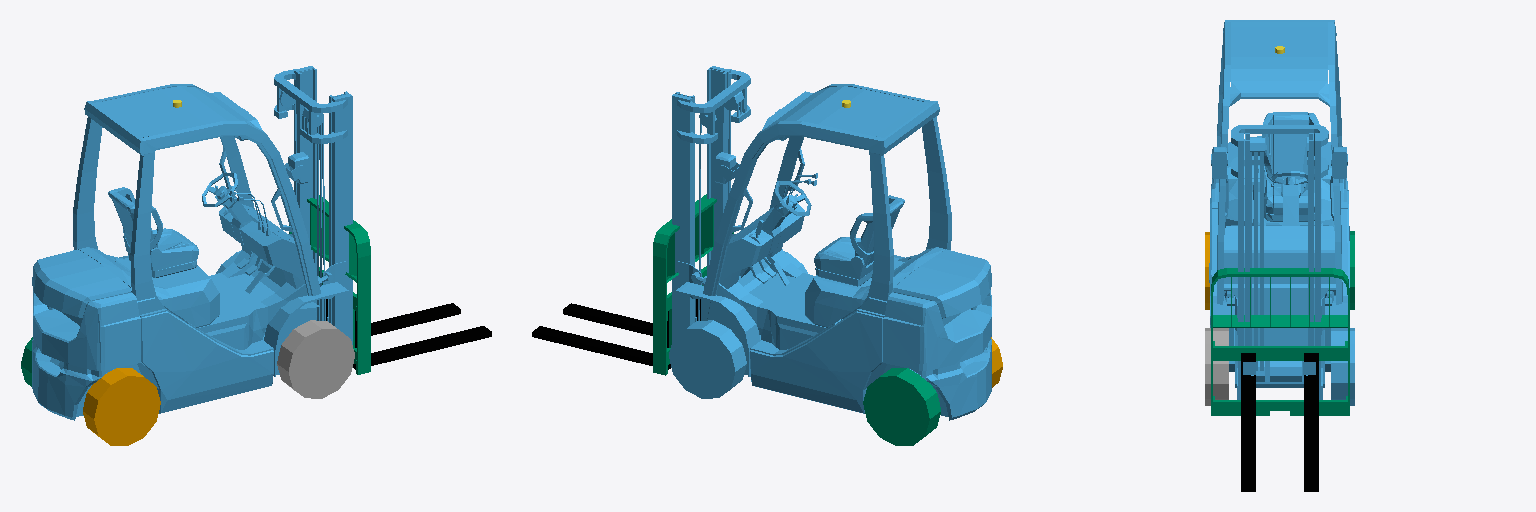
URDF robot description (forklift):
<?xml version="1.0" ?>
<!-- =================================================================================== -->
<!-- |    This document was autogenerated by xacro from forklift.urdf.xacro            | -->
<!-- |    EDITING THIS FILE BY HAND IS NOT RECOMMENDED                                 | -->
<!-- =================================================================================== -->
<robot name="forklift">
  <!-- Specify some standard inertial calculations
    https://en.wikipedia.org/wiki/List_of_moments_of_inertia -->
  <!-- These make use of xacro's mathematical functionality -->
  <!-- Specify some standard inertial calculations
    https://en.wikipedia.org/wiki/List_of_moments_of_inertia -->
  <!-- These make use of xacro's mathematical functionality -->
  <!-- BASE LINK -->
  <material name="darkgray">
    <color rgba="0.01 0.01 0.01 1"/>
  </material>
  <!--See:
  https://github.com/ros-navigation/navigation2_tutorials/blob/rolling/sam_bot_description/src/description/sam_bot_description.urdf -->
  <!--From
  nav2 docs: 
  "We will also be using the box_inertia macro we defined before to add some inertial properties 
  to our base_link. The kdl_parser package used in robot_state_publisher
  doesn’t like inertial properties being specified in the root link, 
  in this case the base_link, to combat this we will be including them in the base_footprint instead.
  Include the following code snippet within <link name="base_footprint"> tag of base_footprint in our
  URDF." 
  -->
  <link name="base_footprint">
    <inertial>
      <origin rpy="0 0 0" xyz="-0.1 0 0.6"/>
      <mass value="50"/>
      <inertia ixx="20.00427083333333" ixy="0.0" ixz="0.0" iyy="38.517083333333325" iyz="0.0" izz="25.188020833333333"/>
    </inertial>
  </link>
  <joint name="base_link_joint" type="fixed">
    <parent link="base_link"/>
    <child link="base_footprint"/>
    <!--Set
    the base_footprint down to wheel axis level + half the wheel radius to be exactly at the
    bottom-->
    <origin rpy="0 0 0" xyz="0 0 -0.6"/>
  </joint>
  <link name="base_link">
    <visual>
      <origin xyz="0 0 0"/>
      <geometry>
        <mesh filename="package://forklift_cpp/models/forklift/meshes/body_correct_scale.dae"/>
      </geometry>
    </visual>
    <collision>
      <origin xyz="0 0 0"/>
      <geometry>
        <mesh filename="package://forklift_cpp/models/forklift/meshes/body_correct_scale.dae"/>
      </geometry>
    </collision>
  </link>
  <link name="fork_plate">
    <visual>
      <origin rpy="0 0 0" xyz="0 0 0"/>
      <geometry>
        <mesh filename="package://forklift_cpp/models/forklift/meshes/fork_plate_correct_scale.dae" scale="1 1 0.77"/>
      </geometry>
    </visual>
    <collision>
      <!--Move the collision down a small amount because the shape is not exactly the same size as the mesh-->
      <origin rpy="0 0 0" xyz="0 0 -0.05"/>
      <geometry>
        <box size="0.1 0.885 0.95"/>
      </geometry>
    </collision>
    <inertial>
      <origin rpy="0 0 0" xyz="0 0 0"/>
      <mass value="50"/>
      <inertia ixx="7.023854166666666" ixy="0.0" ixz="0.0" iyy="3.8020833333333326" iyz="0.0" izz="3.3051041666666663"/>
    </inertial>
  </link>
  <joint name="fork_plate_joint" type="prismatic">
    <parent link="base_link"/>
    <child link="fork_plate"/>
    <origin rpy="0 0 0" xyz="1.15 0 0.025"/>
    <axis xyz="0 0 1"/>
    <limit effort="2500" lower="0.0" upper="5.0" velocity="0.5"/>
  </joint>
  <!-- Specify some standard inertial calculations
    https://en.wikipedia.org/wiki/List_of_moments_of_inertia -->
  <!-- These make use of xacro's mathematical functionality -->
  <!--
    Dimensions are defined when viewing link from the front:
      height is up
      length is forward (towards you)
      width is sideways (left/right)
    -->
  <link name="fork_1_attach">
    <visual>
      <origin rpy="1.5707963267948966 1.5707963267948966 0" xyz="0 0 0"/>
      <geometry>
        <box size="0.5 0.025 0.1"/>
      </geometry>
      <material name="darkgray"/>
    </visual>
    <collision>
      <gazebo>
        <surface>
          <contact>
            <collide_bitmask>0x01</collide_bitmask>
          </contact>
        </surface>
      </gazebo>
      <origin rpy="1.5707963267948966 1.5707963267948966 0" xyz="0 0 0"/>
      <geometry>
        <box size="0.5 0.025 0.1"/>
      </geometry>
    </collision>
    <inertial>
      <origin rpy="0 0 0" xyz="0 0 0"/>
      <mass value="7.5"/>
      <inertia ixx="0.0066406250000000016" ixy="0.0" ixz="0.0" iyy="0.1625" iyz="0.0" izz="0.15664062499999998"/>
    </inertial>
  </link>
  <link name="fork_1">
    <visual>
      <origin rpy="0 0 0" xyz="0 0 0"/>
      <geometry>
        <box size="1.0 0.1 0.04"/>
      </geometry>
      <material name="darkgray"/>
    </visual>
    <collision>
      <origin rpy="0 0 0" xyz="0 0 0"/>
      <geometry>
        <box size="1.0 0.1 0.04"/>
      </geometry>
    </collision>
    <inertial>
      <origin rpy="0 0 0" xyz="0 0 0"/>
      <mass value="7.5"/>
      <inertia ixx="0.007250000000000001" ixy="0.0" ixz="0.0" iyy="0.626" iyz="0.0" izz="0.63125"/>
    </inertial>
  </link>
  <joint name="fork_attach_1_joint" type="fixed">
    <parent link="fork_plate"/>
    <child link="fork_1_attach"/>
    <origin rpy="0 0 0" xyz="0.05 0.2 -0.35"/>
  </joint>
  <joint name="fork_1_joint" type="fixed">
    <parent link="fork_1_attach"/>
    <child link="fork_1"/>
    <origin rpy="0 0 0" xyz="0.5 0 -0.23"/>
  </joint>
  <gazebo reference="fork_1">
    <collision name="your_collision_name">
      <surface>
        <collide_bitmask>0x01</collide_bitmask>
        <contact>
          <collide_bitmask>0x01</collide_bitmask>
        </contact>
      </surface>
    </collision>
  </gazebo>
  <gazebo reference="fork_1_joint">
    <preserveFixedJoint>true</preserveFixedJoint>
  </gazebo>
  <gazebo reference="fork_attach_1_joint">
    <disableFixedJointLumping>true</disableFixedJointLumping>
    <preserveFixedJoint>true</preserveFixedJoint>
  </gazebo>
  <!-- https://osrf-migration.github.io/sdformat-gh-pages/#!/osrf/sdformat/issues/131/page/1-->
  <!-- Specify some standard inertial calculations
    https://en.wikipedia.org/wiki/List_of_moments_of_inertia -->
  <!-- These make use of xacro's mathematical functionality -->
  <!--
    Dimensions are defined when viewing link from the front:
      height is up
      length is forward (towards you)
      width is sideways (left/right)
    -->
  <link name="fork_2_attach">
    <visual>
      <origin rpy="1.5707963267948966 1.5707963267948966 0" xyz="0 0 0"/>
      <geometry>
        <box size="0.5 0.025 0.1"/>
      </geometry>
      <material name="darkgray"/>
    </visual>
    <collision>
      <gazebo>
        <surface>
          <contact>
            <collide_bitmask>0x01</collide_bitmask>
          </contact>
        </surface>
      </gazebo>
      <origin rpy="1.5707963267948966 1.5707963267948966 0" xyz="0 0 0"/>
      <geometry>
        <box size="0.5 0.025 0.1"/>
      </geometry>
    </collision>
    <inertial>
      <origin rpy="0 0 0" xyz="0 0 0"/>
      <mass value="7.5"/>
      <inertia ixx="0.0066406250000000016" ixy="0.0" ixz="0.0" iyy="0.1625" iyz="0.0" izz="0.15664062499999998"/>
    </inertial>
  </link>
  <link name="fork_2">
    <visual>
      <origin rpy="0 0 0" xyz="0 0 0"/>
      <geometry>
        <box size="1.0 0.1 0.04"/>
      </geometry>
      <material name="darkgray"/>
    </visual>
    <collision>
      <origin rpy="0 0 0" xyz="0 0 0"/>
      <geometry>
        <box size="1.0 0.1 0.04"/>
      </geometry>
    </collision>
    <inertial>
      <origin rpy="0 0 0" xyz="0 0 0"/>
      <mass value="7.5"/>
      <inertia ixx="0.007250000000000001" ixy="0.0" ixz="0.0" iyy="0.626" iyz="0.0" izz="0.63125"/>
    </inertial>
  </link>
  <joint name="fork_attach_2_joint" type="fixed">
    <parent link="fork_plate"/>
    <child link="fork_2_attach"/>
    <origin rpy="0 0 0" xyz="0.05 -0.2 -0.35"/>
  </joint>
  <joint name="fork_2_joint" type="fixed">
    <parent link="fork_2_attach"/>
    <child link="fork_2"/>
    <origin rpy="0 0 0" xyz="0.5 0 -0.23"/>
  </joint>
  <gazebo reference="fork_2">
    <collision name="your_collision_name">
      <surface>
        <collide_bitmask>0x01</collide_bitmask>
        <contact>
          <collide_bitmask>0x01</collide_bitmask>
        </contact>
      </surface>
    </collision>
  </gazebo>
  <gazebo reference="fork_2_joint">
    <preserveFixedJoint>true</preserveFixedJoint>
  </gazebo>
  <gazebo reference="fork_attach_2_joint">
    <disableFixedJointLumping>true</disableFixedJointLumping>
    <preserveFixedJoint>true</preserveFixedJoint>
  </gazebo>
  <!-- https://osrf-migration.github.io/sdformat-gh-pages/#!/osrf/sdformat/issues/131/page/1-->
  <joint name="right_wheel_joint" type="continuous">
    <parent link="base_link"/>
    <child link="right_wheel"/>
    <origin rpy="1.5707963267948966 0 0" xyz="0.8 -0.4 -0.35"/>
    <axis xyz="0 0 -1"/>
  </joint>
  <link name="right_wheel">
    <visual>
      <origin rpy="1.5707963267948966 0 0" xyz="0 0 0"/>
      <geometry>
        <!--The
        package resolves into install/forklift_cpp/share/forklift_cpp/-->
        <mesh filename="package://forklift_cpp/models/forklift/meshes/wheel_correct_scale.dae"/>
      </geometry>
    </visual>
    <collision>
      <origin rpy="0 0 0" xyz="0 0 0"/>
      <geometry>
        <cylinder length="0.15" radius="0.25"/>
      </geometry>
    </collision>
    <inertial>
      <origin rpy="0 0 0" xyz="0 0 0"/>
      <mass value="5"/>
      <inertia ixx="0.0875" ixy="0.0" ixz="0.0" iyy="0.0875" iyz="0.0" izz="0.15625"/>
    </inertial>
  </link>
  <joint name="right_wheel_back_joint" type="continuous">
    <parent link="base_link"/>
    <child link="right_wheel_back"/>
    <origin rpy="1.5707963267948966 0 0" xyz="-0.65 -0.4 -0.35"/>
    <axis xyz="0 0 -1"/>
  </joint>
  <link name="right_wheel_back">
    <visual>
      <origin rpy="1.5707963267948966 0 0" xyz="0 0 0"/>
      <geometry>
        <!--The
        package resolves into install/forklift_cpp/share/forklift_cpp/-->
        <mesh filename="package://forklift_cpp/models/forklift/meshes/wheel_correct_scale.dae"/>
      </geometry>
    </visual>
    <collision>
      <origin rpy="0 0 0" xyz="0 0 0"/>
      <geometry>
        <cylinder length="0.15" radius="0.25"/>
      </geometry>
    </collision>
    <inertial>
      <origin rpy="0 0 0" xyz="0 0 0"/>
      <mass value="5"/>
      <inertia ixx="0.0875" ixy="0.0" ixz="0.0" iyy="0.0875" iyz="0.0" izz="0.15625"/>
    </inertial>
  </link>
  <joint name="left_wheel_joint" type="continuous">
    <parent link="base_link"/>
    <child link="left_wheel"/>
    <origin rpy="1.5707963267948966 0 0" xyz="0.8 0.4 -0.35"/>
    <axis xyz="0 0 -1"/>
  </joint>
  <link name="left_wheel">
    <visual>
      <origin rpy="-1.5707963267948966 0 0" xyz="0 0 0"/>
      <geometry>
        <!--The
        package resolves into install/forklift_cpp/share/forklift_cpp/-->
        <mesh filename="package://forklift_cpp/models/forklift/meshes/wheel_correct_scale.dae"/>
      </geometry>
    </visual>
    <collision>
      <origin rpy="0 0 0" xyz="0 0 0"/>
      <geometry>
        <cylinder length="0.15" radius="0.25"/>
      </geometry>
    </collision>
    <inertial>
      <origin rpy="0 0 0" xyz="0 0 0"/>
      <mass value="5"/>
      <inertia ixx="0.0875" ixy="0.0" ixz="0.0" iyy="0.0875" iyz="0.0" izz="0.15625"/>
    </inertial>
  </link>
  <joint name="left_wheel_back_joint" type="continuous">
    <parent link="base_link"/>
    <child link="left_wheel_back"/>
    <origin rpy="1.5707963267948966 0 0" xyz="-0.65 0.4 -0.35"/>
    <axis xyz="0 0 -1"/>
  </joint>
  <link name="left_wheel_back">
    <visual>
      <origin rpy="-1.5707963267948966 0 0" xyz="0 0 0"/>
      <geometry>
        <!--The
        package resolves into install/forklift_cpp/share/forklift_cpp/-->
        <mesh filename="package://forklift_cpp/models/forklift/meshes/wheel_correct_scale.dae"/>
      </geometry>
    </visual>
    <collision>
      <origin rpy="0 0 0" xyz="0 0 0"/>
      <geometry>
        <cylinder length="0.15" radius="0.25"/>
      </geometry>
    </collision>
    <inertial>
      <origin rpy="0 0 0" xyz="0 0 0"/>
      <mass value="5"/>
      <inertia ixx="0.0875" ixy="0.0" ixz="0.0" iyy="0.0875" iyz="0.0" izz="0.15625"/>
    </inertial>
  </link>
  <gazebo reference="fork_plate">
    <sensor name="sensor_contact" type="contact">
      <contact>
        <collision>fork_plate_fixed_joint_lump__fork_1_collision_1</collision>
      </contact>
    </sensor>
  </gazebo>
  <link name="rplidar_link">
    <visual>
      <origin rpy="0 0 0" xyz="0 0 0"/>
      <geometry>
        <cylinder length="0.03" radius="0.03"/>
      </geometry>
    </visual>
    <collision>
      <origin rpy="0 0 0" xyz="0 0 0"/>
      <geometry>
        <cylinder length="0.03" radius="0.03"/>
      </geometry>
    </collision>
    <inertial>
      <origin rpy="0 0 0" xyz="0 0 0"/>
      <mass value="0.1"/>
      <inertia ixx="2.9999999999999997e-05" ixy="0.0" ixz="0.0" iyy="2.9999999999999997e-05" iyz="0.0" izz="4.5e-05"/>
    </inertial>
  </link>
  <joint name="rplidar_joint" type="fixed">
    <parent link="base_link"/>
    <child link="rplidar_link"/>
    <origin rpy="0 0 0" xyz="0 0 1.5"/>
  </joint>
  <gazebo reference="rplidar_link">
    <sensor name="rplidar" type="gpu_lidar">
      <update_rate>40.0</update_rate>
      <visualize>true</visualize>
      <always_on>true</always_on>
      <gz_frame_id>rplidar_link</gz_frame_id>
      <topic>/scan</topic>
      <lidar>
        <scan>
          <horizontal>
            <samples>180</samples>
            <resolution>1.0</resolution>
            <min_angle>0.000</min_angle>
            <max_angle>6.280000</max_angle>
          </horizontal>
        </scan>
        <range>
          <min>0.164</min>
          <max>20.0</max>
          <resolution>0.01</resolution>
        </range>
      </lidar>
    </sensor>
  </gazebo>
  <!-- <gazebo reference="rplidar_joint">
    <preserveFixedJoint>true</preserveFixedJoint>
  </gazebo> -->
  <!--https://medium.com/@alitekes1/gazebo-sim-plugin-and-sensors-for-acquire-data-from-simulation-environment-681d8e2ad853-->
  <!--
  <gazebo reference="fork_plate_joint">
    <disableFixedJointLumping>true</disableFixedJointLumping>
  </gazebo>
  -->
  <gazebo>
    <!-- <plugin
      filename="gz-sim-pose-publisher-system"
      name="gz::sim::systems::PosePublisher">
      <publish_link_pose>true</publish_link_pose>
      <publish_collision_pose>false</publish_collision_pose>
      <publish_visual_pose>false</publish_visual_pose>
      <publish_nested_model_pose>false</publish_nested_model_pose>
      <use_pose_vector_msg>true</use_pose_vector_msg>
    </plugin> -->
    <plugin filename="gz-sim-diff-drive-system" name="gz::sim::systems::DiffDrive">
      <left_joint>left_wheel_joint</left_joint>
      <left_joint>left_wheel_back_joint</left_joint>
      <right_joint>right_wheel_joint</right_joint>
      <right_joint>right_wheel_back_joint</right_joint>
      <wheel_separation>0.890</wheel_separation>
      <wheel_radius>0.25</wheel_radius>
      <odom_publish_frequency>30</odom_publish_frequency>
      <odom_topic>/odom</odom_topic>
      <frame_id>odom</frame_id>
      <tf_topic>/tf</tf_topic>
      <topic>/cmd_vel</topic>
      <child_frame_id>base_link</child_frame_id>
      <max_linear_acceleration>10</max_linear_acceleration>
      <min_linear_acceleration>-10</min_linear_acceleration>
      <max_angular_acceleration>20</max_angular_acceleration>
      <min_angular_acceleration>-20</min_angular_acceleration>
      <max_linear_velocity>6</max_linear_velocity>
      <min_linear_velocity>-0.5</min_linear_velocity>
      <max_angular_velocity>10</max_angular_velocity>
      <min_angular_velocity>-10</min_angular_velocity>
    </plugin>
    <!--Ground truth odom instead of the "realistic" odom provided by diff drive-->
    <!-- <plugin
        filename="gz-sim-odometry-publisher-system"
        name="gz::sim::systems::OdometryPublisher">
        <dimensions>2</dimensions>
        <odom_topic>$(arg namespace)/odom</odom_topic>
        <tf_topic>$(arg namespace)/tf</tf_topic>
        <robot_base_frame>base_link</robot_base_frame>

        <odom_frame>odom</odom_frame>
        <odom_publish_frequency>50</odom_publish_frequency>
    </plugin> -->
    <plugin filename="gz-sim-detachable-joint-system" name="gz::sim::systems::DetachableJoint">
      <parent_link>fork_1</parent_link>
      <child_model>euro_pallet_2</child_model>
      <child_link>link</child_link>
      <detach_topic>/euro_pallet_2/detach</detach_topic>
      <attach_topic>/euro_pallet_2/attach</attach_topic>
      <output_topic>/euro_pallet_2/state</output_topic>
    </plugin>
    <plugin filename="gz-sim-joint-state-publisher-system" name="gz::sim::systems::JointStatePublisher">
      <!--
      <joint_name>left_wheel_joint</joint_name>
      <joint_name>right_wheel_joint</joint_name>
      <joint_name>left_wheel_back_joint</joint_name>
      <joint_name>right_wheel_back_joint</joint_name>
      <joint_name>fork_attach_1_joint</joint_name>
      <joint_name>fork_attach_2_joint</joint_name>
      <joint_name>fork_1_joint</joint_name>
      <joint_name>fork_2_joint</joint_name>
      <joint_name>fork_plate</joint_name>
      -->
      <!-- <joint_name>fork_plate</joint_name> -->
      <topic>/joint_states</topic>
    </plugin>
    <plugin filename="gz-sim-joint-position-controller-system" name="gz::sim::systems::JointPositionController">
      <joint_name>fork_plate_joint</joint_name>
      <initial_position>0.0</initial_position>
      <topic>/fork_control</topic>
      <p_gain>40000</p_gain>
      <i_gain>2000</i_gain>
      <d_gain>5000</d_gain>
      <i_min>-2000</i_min>
      <i_max>2000</i_max>
      <cmd_min>-80000</cmd_min>
      <cmd_max>120000</cmd_max>
    </plugin>
  </gazebo>
</robot>

--- Render facts (derived) ---
3 views of the same robot in one strip: view 1: azimuth 30°, elevation 25°; view 2: azimuth 150°, elevation 25°; view 3: azimuth 270°, elevation 25° (orthographic).
Robot: forklift — 12 links, 11 joints (4 continuous, 1 prismatic, 6 fixed); root link base_link; default pose: every joint at zero.
Visible links, largest first — view 1: base_link, right_wheel, right_wheel_back, fork_plate, fork_2, fork_1; view 2: base_link, left_wheel, left_wheel_back, fork_plate, fork_1, fork_2; view 3: base_link, fork_plate, right_wheel, left_wheel, fork_1, fork_2, fork_1_attach, fork_2_attach.
Link boxes in pixels (bbox=[...]): base_link: bbox=[32, 66, 352, 420]; right_wheel: bbox=[277, 320, 354, 398]; right_wheel_back: bbox=[83, 368, 160, 445]; fork_plate: bbox=[289, 195, 370, 374]; fork_2: bbox=[371, 326, 491, 365]; fork_1: bbox=[371, 303, 460, 335]; base_link: bbox=[672, 66, 991, 420]; left_wheel: bbox=[669, 320, 746, 398]; left_wheel_back: bbox=[863, 368, 940, 445]; fork_plate: bbox=[653, 194, 733, 375]; fork_1: bbox=[532, 326, 652, 365]; fork_2: bbox=[563, 303, 652, 335]; base_link: bbox=[1209, 20, 1349, 399]; fork_plate: bbox=[1211, 268, 1349, 415]; right_wheel: bbox=[1205, 328, 1228, 405]; left_wheel: bbox=[1331, 328, 1354, 405]; fork_1: bbox=[1304, 420, 1318, 491]; fork_2: bbox=[1241, 420, 1255, 491]; fork_1_attach: bbox=[1304, 353, 1318, 419]; fork_2_attach: bbox=[1241, 353, 1255, 419].
Size in the robot's own frame: 3.21 by 0.9507 by 2.12 metres.
Meshes: 3 distinct files referenced, 6 mesh visuals loaded (3 Collada DAE).
